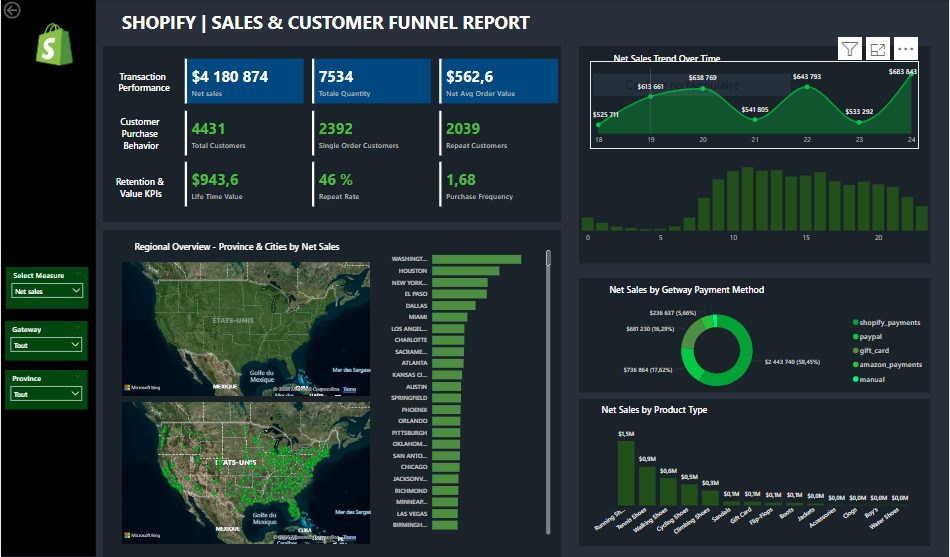

Layout of this report page (visuals, bound fields, positions):
{"tool":"powerbi","page":{"name":"Shopify analysis","canvas":[1700,1000],"ordinal":0},"visuals":[{"type":"shape","box":[0,0,170,999.5],"z":0},{"type":"textbox","box":[210.6,13.8,746.1,66.9],"z":1000},{"type":"shape","box":[183.1,84.6,820.9,315],"z":2000},{"type":"cardVisual","fields":{"Data":["shopify_sales.Net sales","shopify_sales.Totale Quantity","shopify_sales.Net Avg Order Value"]},"box":[324.8,102.4,679.1,90.6],"z":3000},{"type":"card","fields":{"Values":["shopify_sales.Transaction Perf"]},"box":[189,110.2,135.8,74.8],"z":4000},{"type":"cardVisual","fields":{"Data":["shopify_sales.Total Customers","shopify_sales.Single Order Customers","shopify_sales.Repeat Customers"]},"box":[324.8,194.9,679.1,90.6],"z":5000},{"type":"card","fields":{"Values":["shopify_sales.Customer Purchase Behavior"]},"box":[183.1,196.9,135.8,82.7],"z":6000},{"type":"cardVisual","fields":{"Data":["shopify_sales.Life Time Value","shopify_sales.Repeat Rate","shopify_sales.Purchase Frequency"]},"box":[324.8,287.4,679.1,90.6],"z":7000},{"type":"card","fields":{"Values":["shopify_sales.Retention &Value KBIs"]},"box":[183.1,295.3,135.8,82.7],"z":8000},{"type":"shape","box":[183.1,413.4,820.9,586.6],"z":9000},{"type":"filledMap","fields":{"Category":["shopify_sales.Billing Address Province"]},"box":[210.6,466.5,454.7,250],"z":10000},{"type":"actionButton","box":[0,0,100,40],"z":11000},{"type":"slicer","fields":{"Values":["Select Measure.Select Measure"]},"box":[9.8,480.3,147.6,74.8],"z":12000},{"type":"map","fields":{"Category":["shopify_sales.Location"]},"box":[210.6,716.5,454.7,263.8],"z":13000},{"type":"clusteredBarChart","fields":{"Y":["shopify_sales.Net sales"],"Category":["shopify_sales.CITY"]},"box":[683.1,437,307.1,527.6],"z":14000},{"type":"card","fields":{"Values":["shopify_sales.Map Title"]},"box":[189,425.2,468.5,41.3],"z":15000},{"type":"shape","box":[1035.4,84.6,629.9,389.8],"z":16000},{"type":"areaChart","fields":{"Y":["shopify_sales.Net sales"],"Category":["shopify_sales.Invoice Date.Variation.Hiérarchie de dates.Jour"]},"box":[1055.1,110.2,590.6,159.4],"z":17000},{"type":"columnChart","fields":{"Y":["shopify_sales.Net sales"],"Category":["shopify_sales.HOUR"]},"box":[1035.4,257.9,629.9,187],"z":18000},{"type":"card","fields":{"Values":["shopify_sales.Trend Title"]},"box":[1035.4,88.6,315,41.3],"z":19000},{"type":"shape","box":[1035.4,500,629.9,205],"z":20000},{"type":"donutChart","fields":{"Y":["shopify_sales.Net sales"],"Category":["shopify_sales.Gateway"]},"box":[1035.4,543.3,629.9,173.2],"z":21000},{"type":"card","fields":{"Values":["shopify_sales.Getway Title"]},"box":[1035.4,502,385.8,41.3],"z":22000},{"type":"shape","box":[1035.4,716.5,629.9,263.8],"z":23000},{"type":"columnChart","fields":{"Y":["shopify_sales.Net sales"],"Category":["shopify_sales.Product Type"]},"box":[1055.1,757.9,590.6,212.6],"z":24000},{"type":"card","fields":{"Values":["shopify_sales.Product Title"]},"box":[1035.4,716.5,269.7,41.3],"z":25000},{"type":"image","box":[35.4,13.8,120.1,133.9],"z":26000},{"type":"slicer","fields":{"Values":["shopify_sales.Gateway"]},"box":[7.9,576.8,147.6,70.9],"z":27000},{"type":"slicer","fields":{"Values":["shopify_sales.Billing Address Province"]},"box":[7.9,665.4,147.6,70.9],"z":28000}]}

Visuals, with their boxes on the page's 1700x1000 design canvas (x1, y1, x2, y2). These are canvas units, not pixel positions in the 950x557 screenshot, which may show the page scaled, cropped or inside an application window:
shape: box(0, 0, 170, 1000)
textbox: box(211, 14, 957, 81)
shape: box(183, 85, 1004, 400)
cardVisual - shopify_sales.Net sales x shopify_sales.Totale Quantity: box(325, 102, 1004, 193)
card - shopify_sales.Transaction Perf: box(189, 110, 325, 185)
cardVisual - shopify_sales.Total Customers x shopify_sales.Single Order Customers: box(325, 195, 1004, 286)
card - shopify_sales.Customer Purchase Behavior: box(183, 197, 319, 280)
cardVisual - shopify_sales.Life Time Value x shopify_sales.Repeat Rate: box(325, 287, 1004, 378)
card - shopify_sales.Retention &Value KBIs: box(183, 295, 319, 378)
shape: box(183, 413, 1004, 1000)
filledMap - shopify_sales.Billing Address Province: box(211, 466, 665, 716)
actionButton: box(0, 0, 100, 40)
slicer - Select Measure.Select Measure: box(10, 480, 157, 555)
map - shopify_sales.Location: box(211, 716, 665, 980)
clusteredBarChart - shopify_sales.Net sales x shopify_sales.CITY: box(683, 437, 990, 965)
card - shopify_sales.Map Title: box(189, 425, 658, 466)
shape: box(1035, 85, 1665, 474)
areaChart - shopify_sales.Net sales x shopify_sales.Invoice Date.Variation.Hiérarchie de dates.Jour: box(1055, 110, 1646, 270)
columnChart - shopify_sales.Net sales x shopify_sales.HOUR: box(1035, 258, 1665, 445)
card - shopify_sales.Trend Title: box(1035, 89, 1350, 130)
shape: box(1035, 500, 1665, 705)
donutChart - shopify_sales.Net sales x shopify_sales.Gateway: box(1035, 543, 1665, 716)
card - shopify_sales.Getway Title: box(1035, 502, 1421, 543)
shape: box(1035, 716, 1665, 980)
columnChart - shopify_sales.Net sales x shopify_sales.Product Type: box(1055, 758, 1646, 970)
card - shopify_sales.Product Title: box(1035, 716, 1305, 758)
image: box(35, 14, 156, 148)
slicer - shopify_sales.Gateway: box(8, 577, 156, 648)
slicer - shopify_sales.Billing Address Province: box(8, 665, 156, 736)
